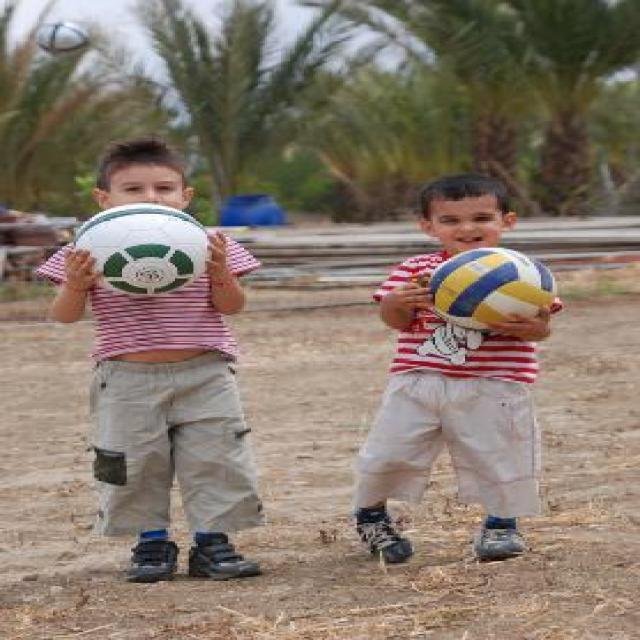volleyball: (430, 248, 552, 330)
